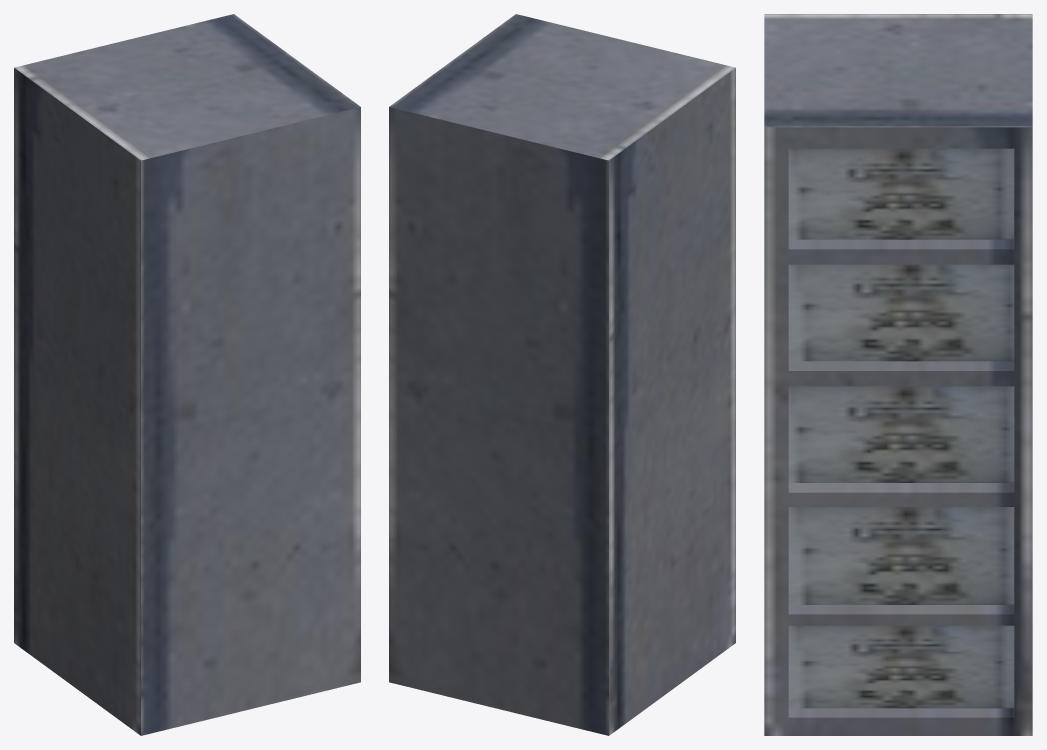
Rendered from filing_cabinet.fbx.
3 views of the same model, side by side, from view 1: azimuth 30°, elevation 25°; view 2: azimuth 150°, elevation 25°; view 3: azimuth 270°, elevation 25° (orthographic). The views are drawn at different scales.
Parts seen in each view (by area): view 1: Plane; view 2: Plane; view 3: Plane.
Boxes of the visible parts, left/top/right/bottom form: Plane: left=14, top=14, right=360, bottom=735; Plane: left=389, top=14, right=735, bottom=735; Plane: left=764, top=14, right=1032, bottom=735.
Bounding box in the file's own units: 60 × 150 × 60.
